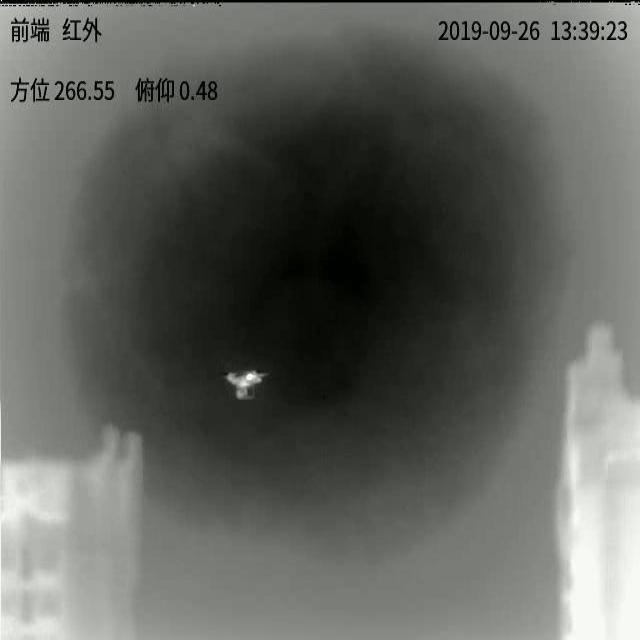drone: (225, 371, 269, 400)
